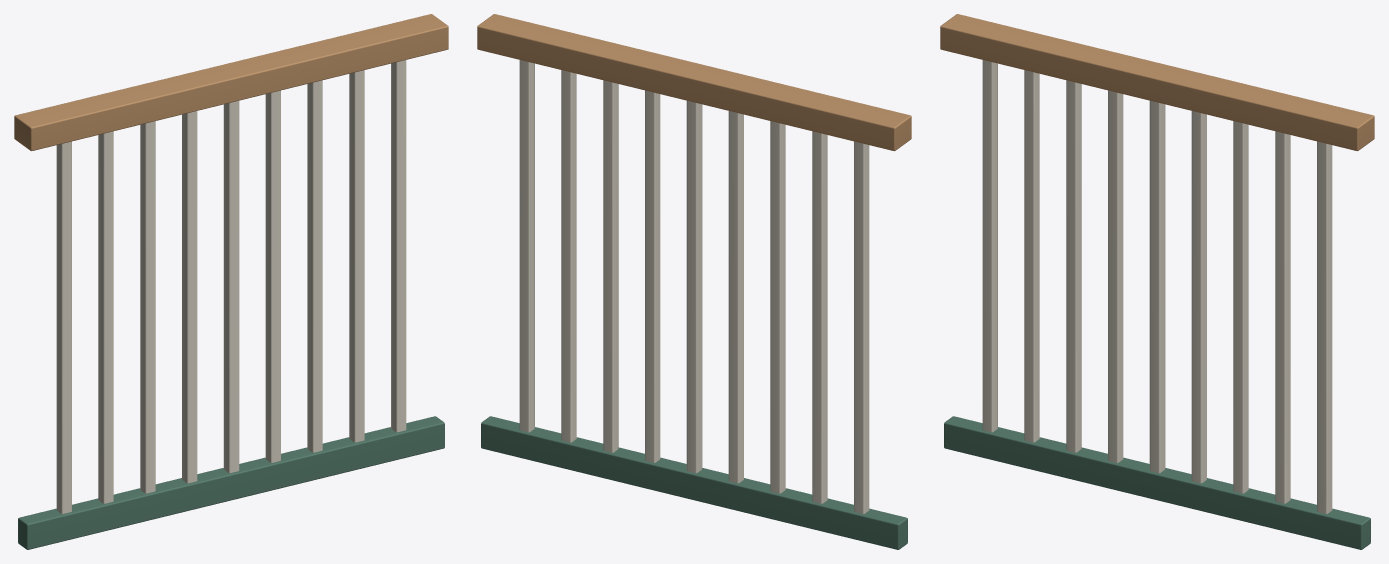
File: juniper_guard_span.glb
The picture shows the model from 3 angles, left to right: view 1: azimuth 30°, elevation 25°; view 2: azimuth 150°, elevation 25°; view 3: azimuth 330°, elevation 25°; orthographic projection.
Parts seen in each view (by area): view 1: juniper_guard_span Juniper cream, juniper_guard_span Juniper oak, juniper_guard_span Juniper sage; view 2: juniper_guard_span Juniper cream, juniper_guard_span Juniper oak, juniper_guard_span Juniper sage; view 3: juniper_guard_span Juniper cream, juniper_guard_span Juniper oak, juniper_guard_span Juniper sage.
Boxes of the visible parts, left/top/right/bottom form: juniper_guard_span Juniper cream: left=56, top=60, right=406, bottom=513; juniper_guard_span Juniper oak: left=14, top=14, right=448, bottom=151; juniper_guard_span Juniper sage: left=18, top=416, right=444, bottom=549; juniper_guard_span Juniper cream: left=519, top=60, right=869, bottom=513; juniper_guard_span Juniper oak: left=477, top=14, right=911, bottom=151; juniper_guard_span Juniper sage: left=481, top=416, right=907, bottom=549; juniper_guard_span Juniper cream: left=982, top=60, right=1332, bottom=513; juniper_guard_span Juniper oak: left=940, top=14, right=1374, bottom=151; juniper_guard_span Juniper sage: left=944, top=416, right=1370, bottom=549.
Bounding box in the file's own units: 1 × 0.9725 × 0.072.
